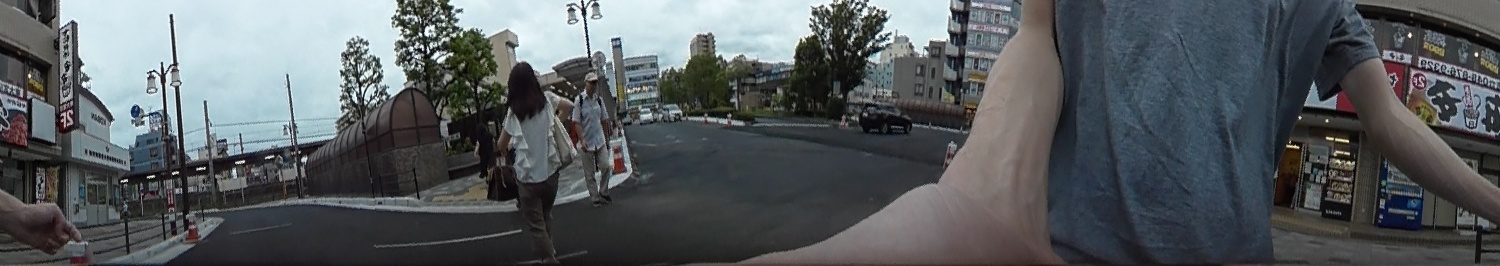person: (498, 58, 570, 266), (575, 72, 618, 205), (473, 121, 496, 181)
